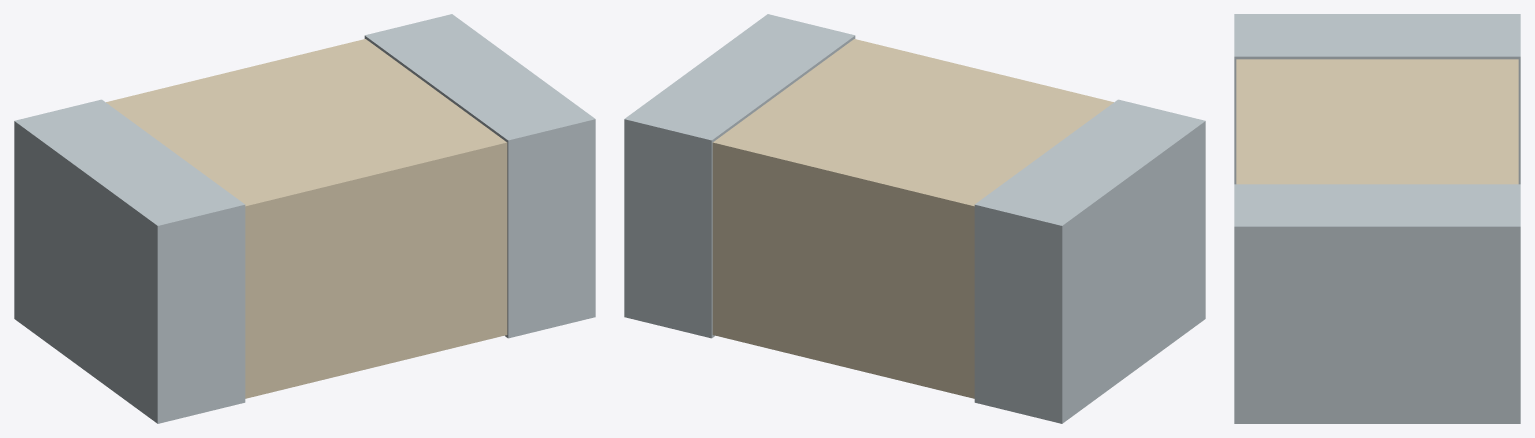
The picture shows the model from 3 angles, left to right: view 1: azimuth 30°, elevation 25°; view 2: azimuth 150°, elevation 25°; view 3: azimuth 270°, elevation 25°; orthographic projection.
Parts seen in each view (by area): view 1: MLCC_Ceramic_0805_0, EndCap_1, EndCap_2; view 2: MLCC_Ceramic_0805_0, EndCap_1, EndCap_2; view 3: EndCap_2, MLCC_Ceramic_0805_0, EndCap_1.
Boxes of the visible parts, x1,y1,x2,y2 form: MLCC_Ceramic_0805_0: (106, 39, 507, 398); EndCap_1: (14, 99, 245, 423); EndCap_2: (364, 14, 595, 338); MLCC_Ceramic_0805_0: (712, 39, 1113, 398); EndCap_1: (974, 99, 1205, 423); EndCap_2: (624, 14, 855, 338); EndCap_2: (1234, 184, 1520, 423); MLCC_Ceramic_0805_0: (1236, 59, 1518, 184); EndCap_1: (1234, 14, 1520, 184).
Size of the model in its own units: 0.0025 by 0.00108 by 0.00142.
